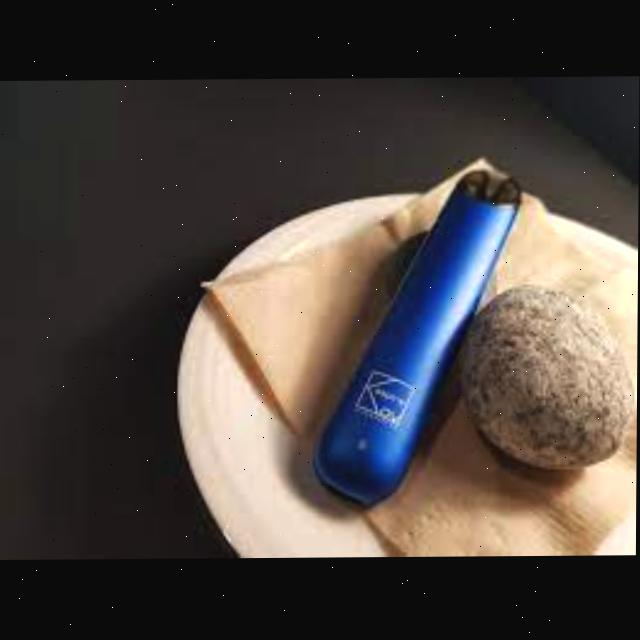vape: (316, 165, 523, 508)
